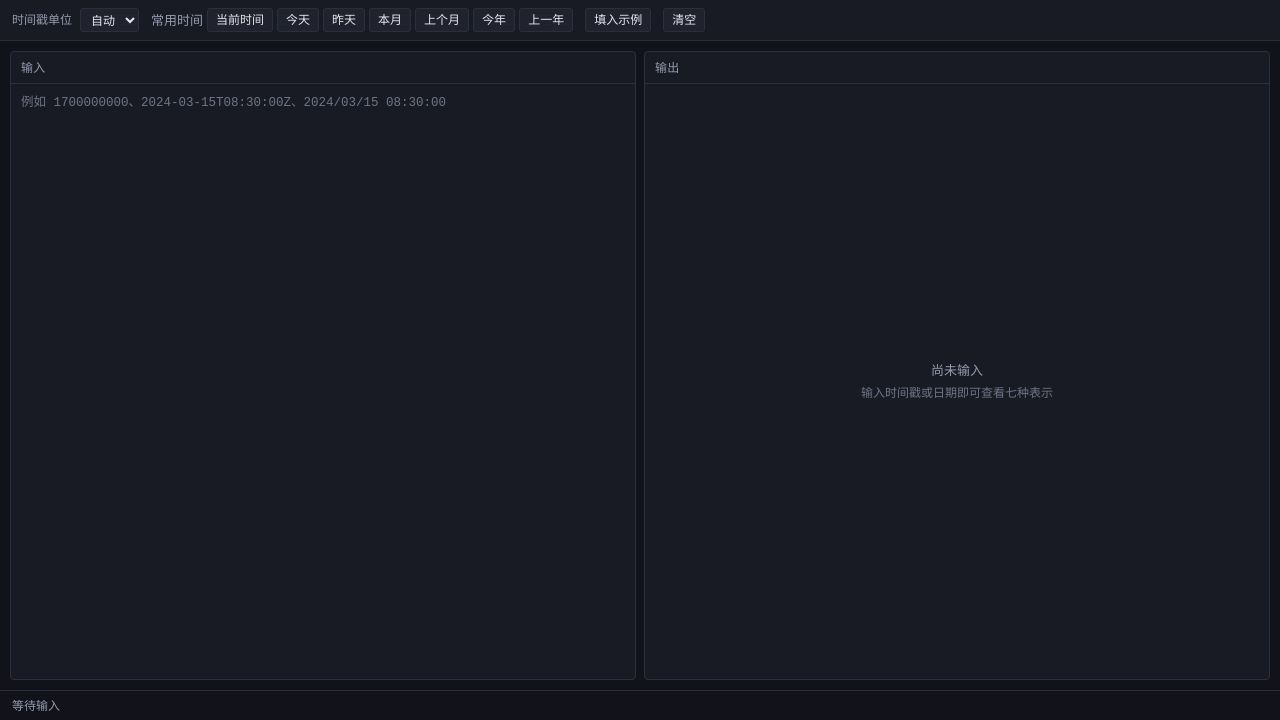
Test: 日期转换器工具 › 无法识别的输入给出错误提示且不展示结果
The width and height of the screenshot is (1280, 720).
Type "not-a-date" into the text box named "日期或时间戳".
click(323, 150); type("not-a-date")  # box [11, 84, 635, 216]
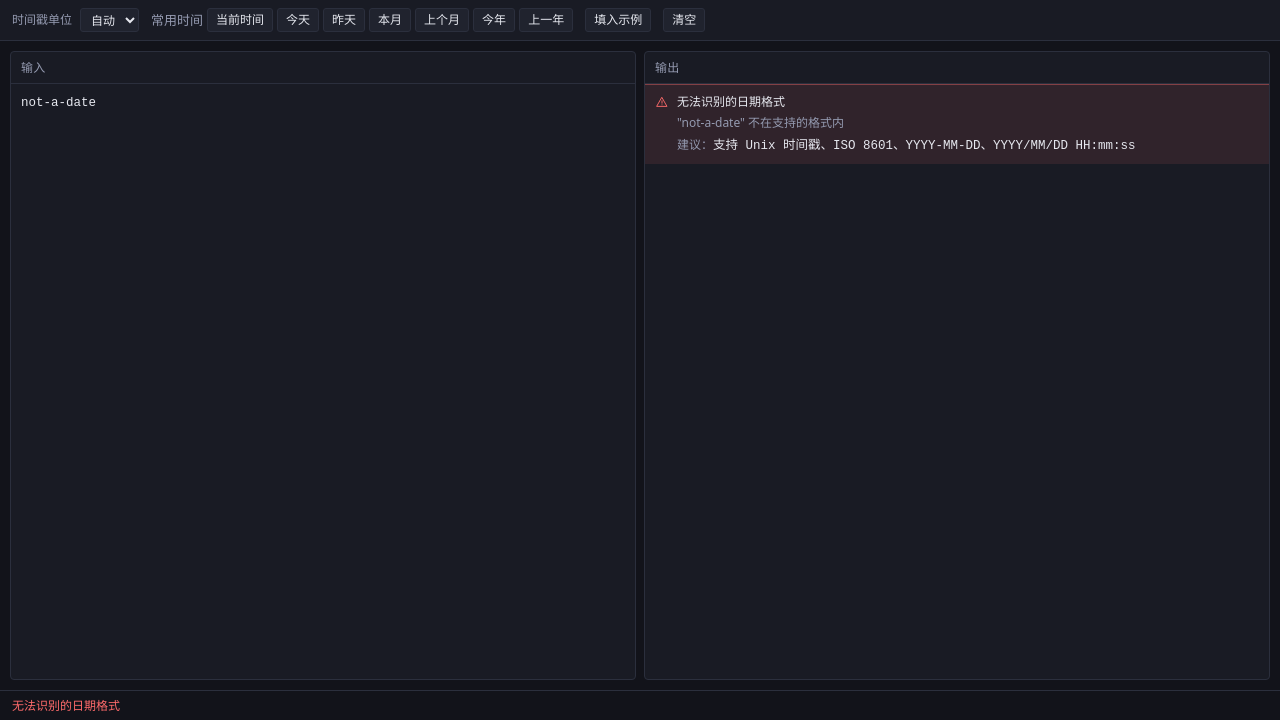
Expected: the message shows "无法识别的日期格式", [677, 93, 785, 110]
